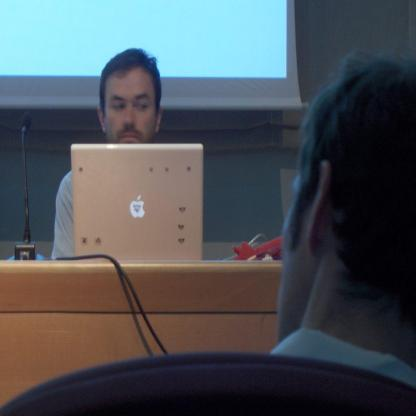board: (61, 144, 210, 286)
